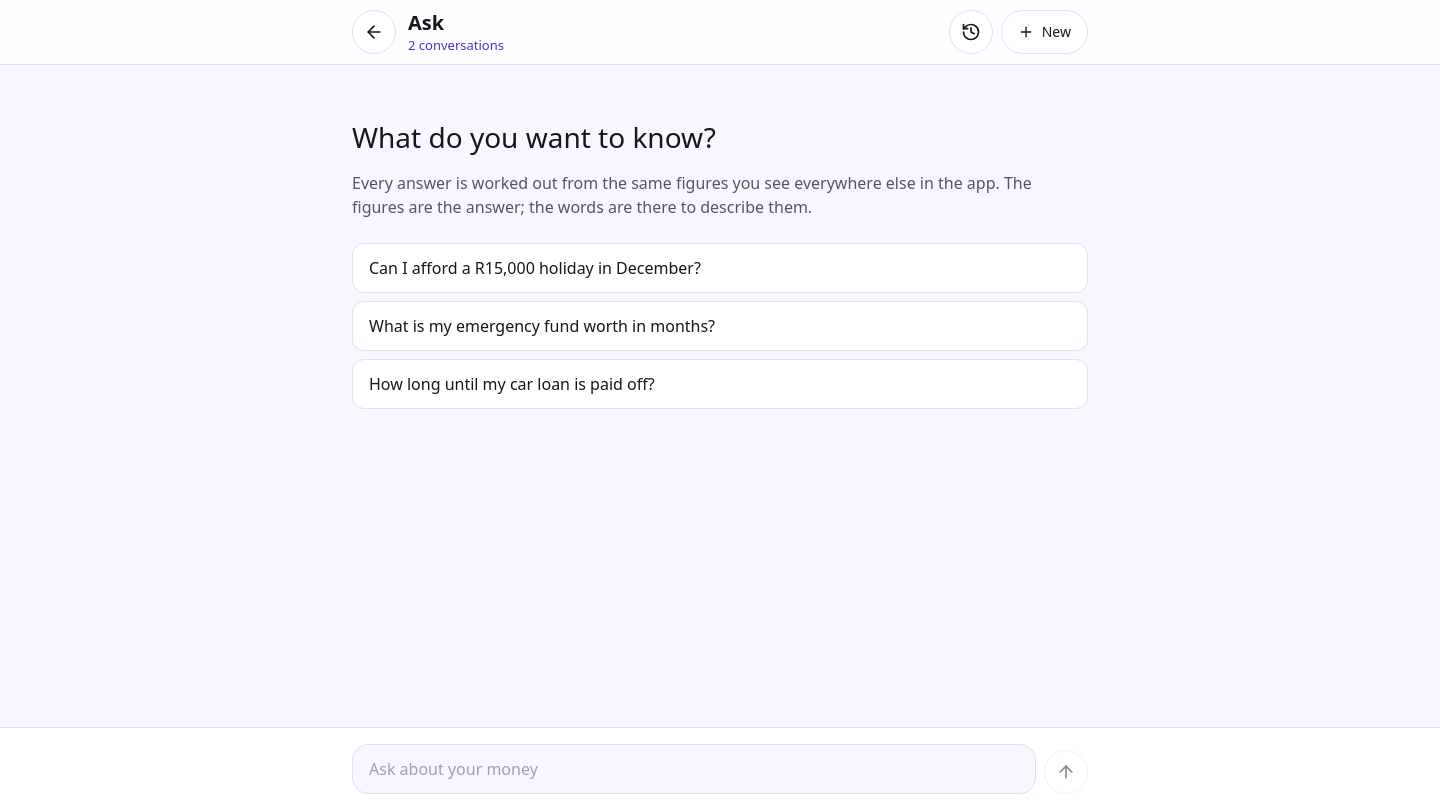
Scenario: ChatView history › opens the history drawer and lists past conversations
The image size is (1440, 810).
Click the button named "History": point(971, 32) [949, 10, 993, 54]
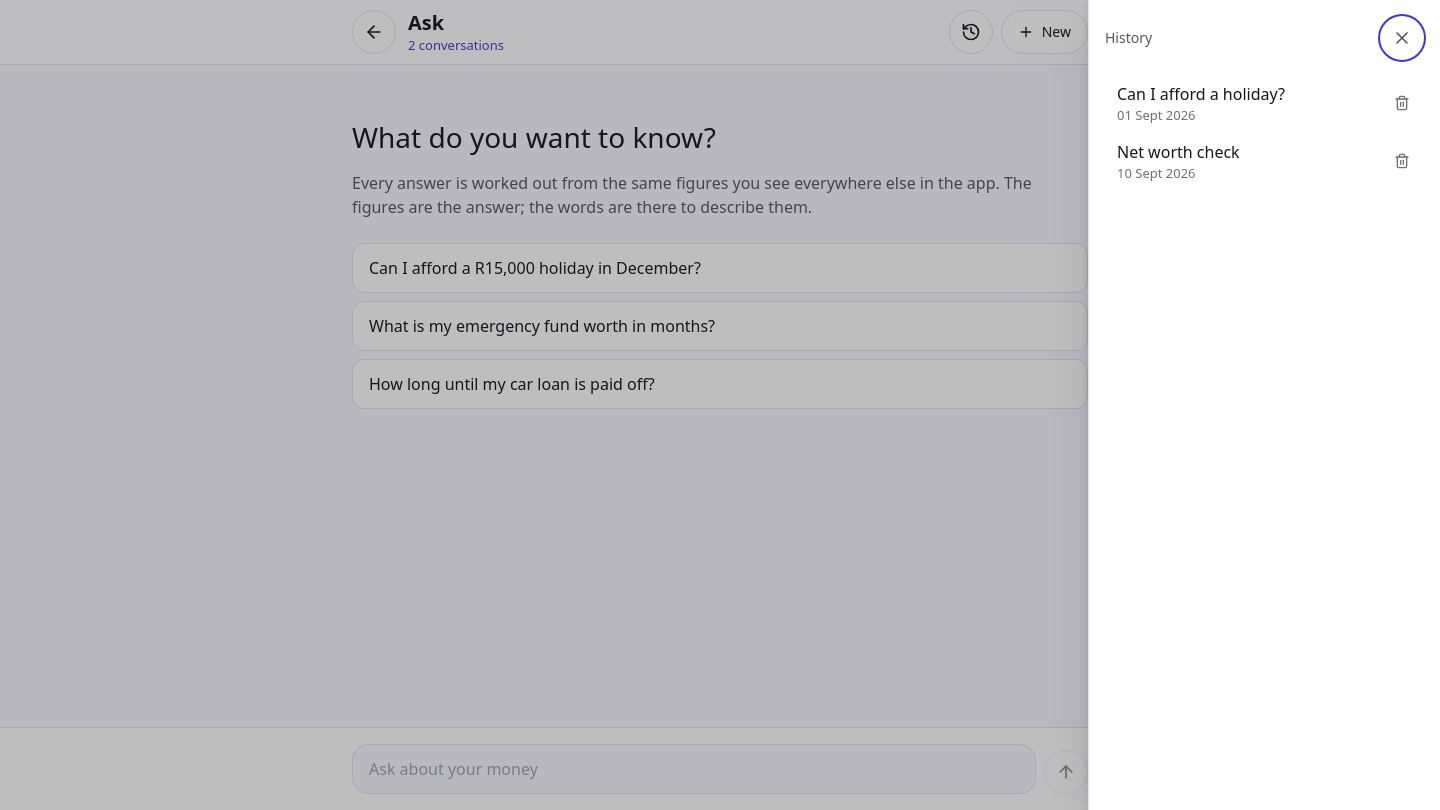
expect the dialog named "Conversation history" is shown: met, box [1088, 0, 1439, 809]
expect the text "Can I afford a holiday?" is shown: met, box [1117, 82, 1285, 106]
expect the text "Net worth check" is shown: met, box [1117, 140, 1240, 164]
